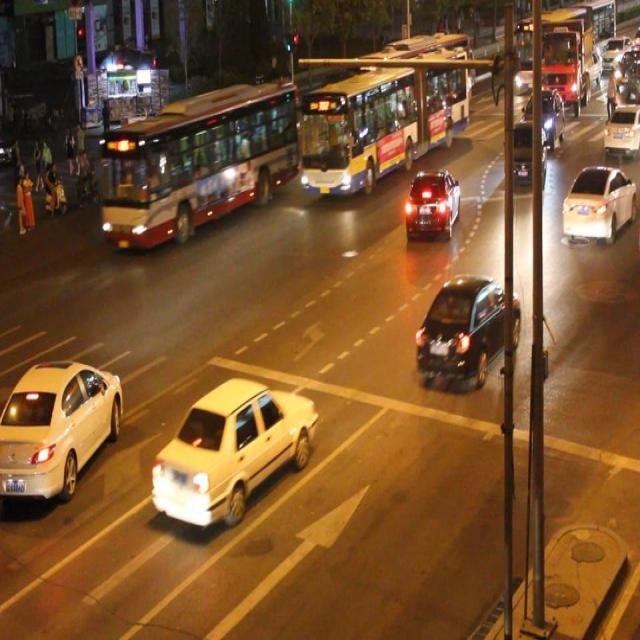car: (154, 379, 314, 522), (1, 356, 121, 496), (415, 275, 515, 382), (560, 166, 640, 239), (403, 167, 460, 240), (502, 120, 544, 187), (601, 105, 640, 151)
van: (103, 84, 296, 241), (302, 56, 466, 190)
